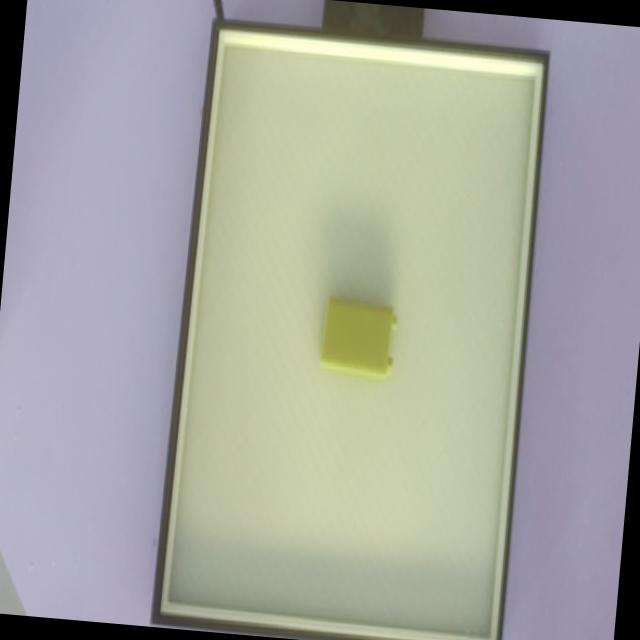bateria: (318, 297, 397, 380)
mesa: (150, 18, 550, 640)
